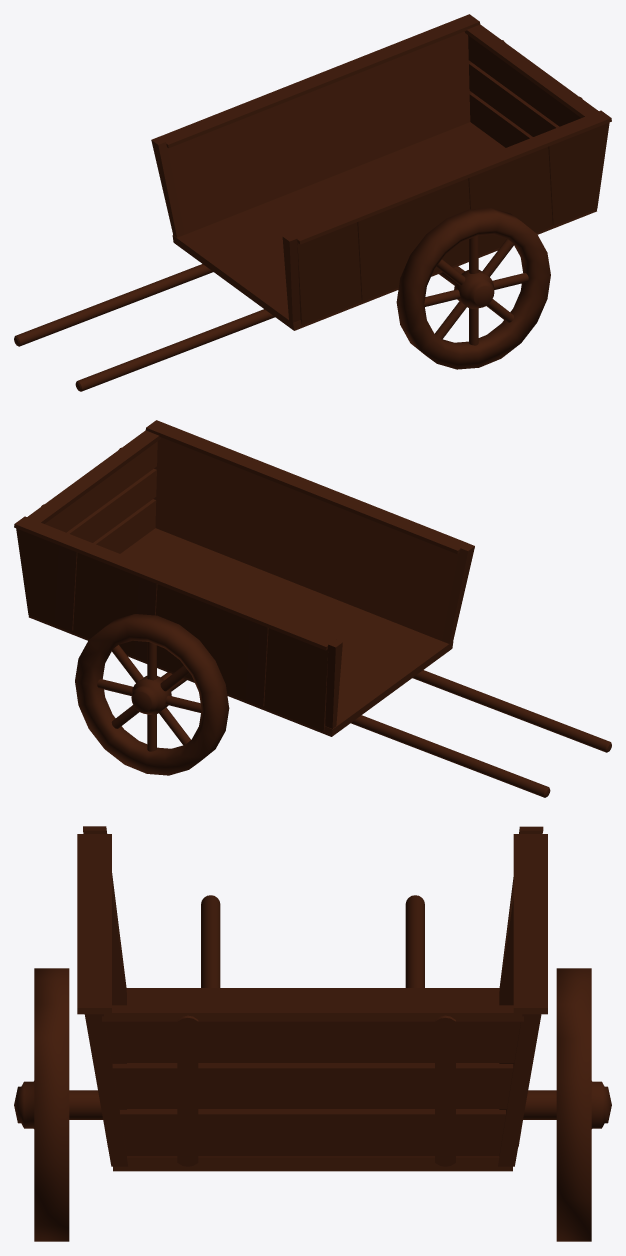
The picture shows the model from 3 angles, top to bottom: view 1: azimuth 30°, elevation 25°; view 2: azimuth 150°, elevation 25°; view 3: azimuth 270°, elevation 25°; orthographic projection. The views are drawn at different scales.
Parts seen in each view (by area): view 1: pCylinder16, pCylinder15; view 2: pCylinder16, pCylinder15; view 3: pCylinder16, pCylinder15.
Part boxes in pixels (<box>): pCylinder16: <box>14,14,611,391</box>; pCylinder15: <box>396,208,550,369</box>; pCylinder16: <box>14,420,611,797</box>; pCylinder15: <box>75,614,229,775</box>; pCylinder16: <box>69,826,556,1171</box>; pCylinder15: <box>14,968,611,1241</box>.
Bounding box in the file's own units: 447 × 176 × 281.
